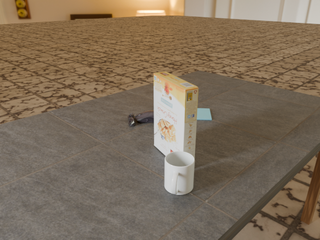book: (197, 108, 211, 120)
box: (154, 72, 198, 157)
cup: (165, 151, 195, 195)
mouse: (128, 111, 154, 126)
